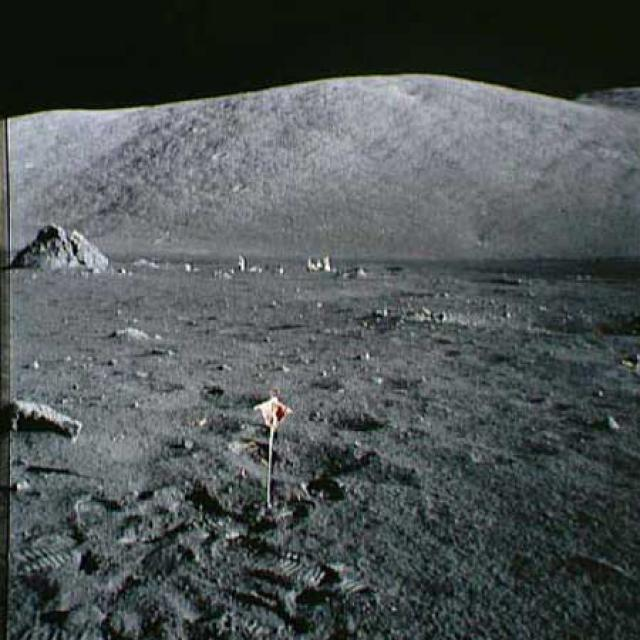artifact: (248, 385, 302, 529), (12, 396, 85, 446), (206, 250, 268, 280), (297, 250, 340, 276)
crater: (404, 303, 637, 340)
rock: (7, 215, 118, 286), (111, 322, 153, 346)
